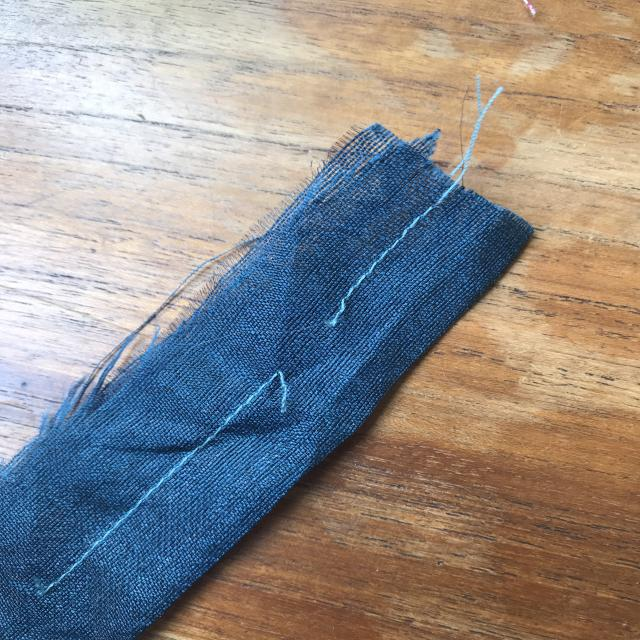broken: (254, 284, 382, 419)
